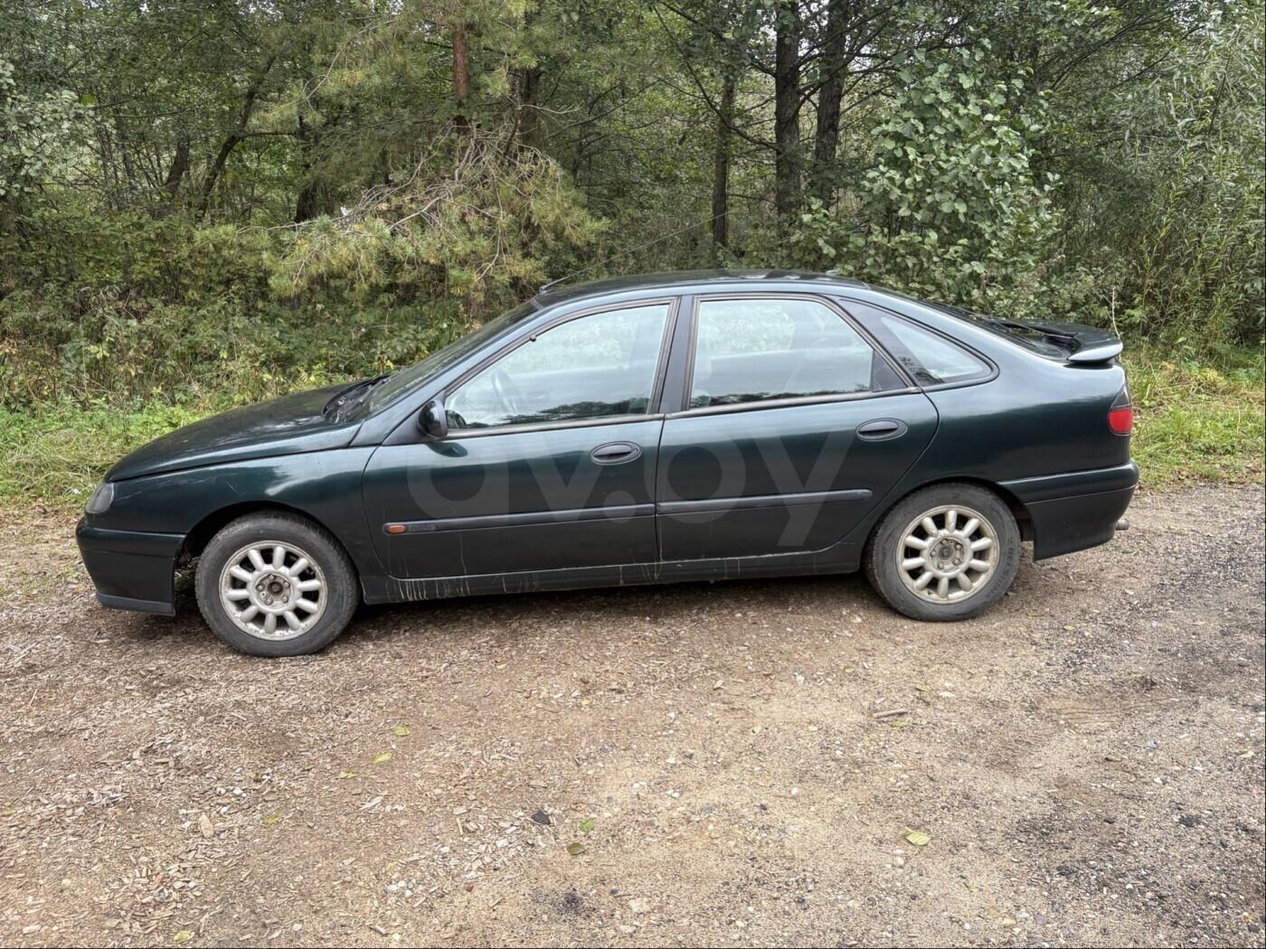Lahuna_1993-1999: (67, 270, 1141, 662)
